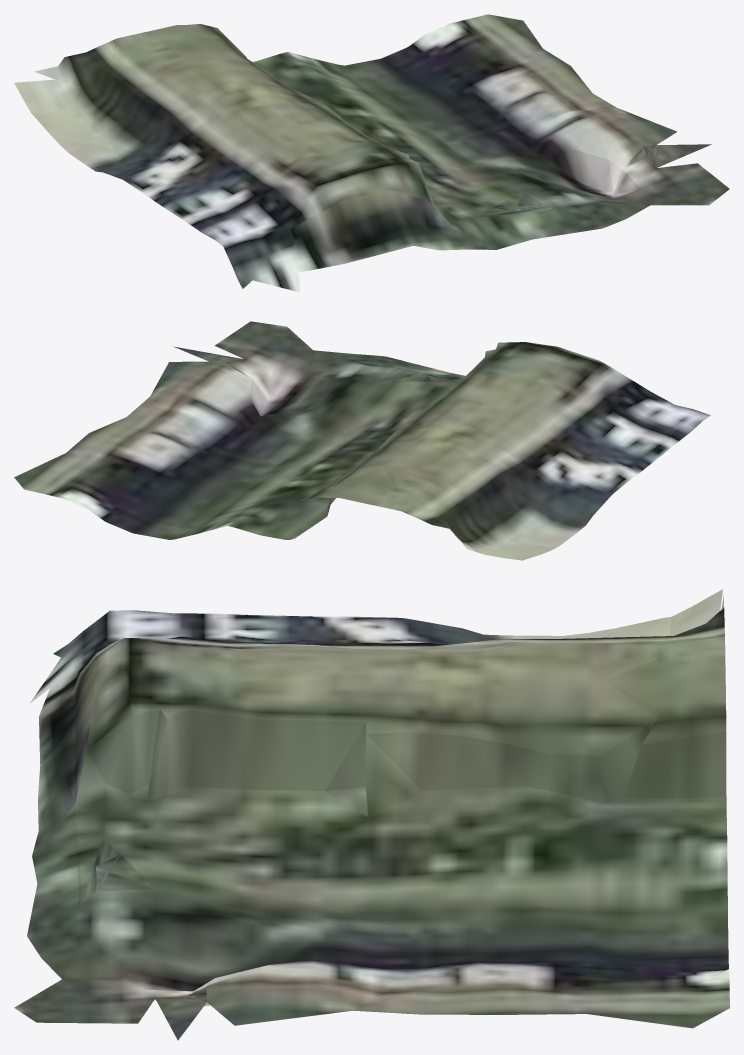
The model's file is Tile_003_003_L14_222.glb.
3 renders of one model, top to bottom at view 1: azimuth 30°, elevation 25°; view 2: azimuth 150°, elevation 25°; view 3: azimuth 270°, elevation 25°, orthographic. The views are drawn at different scales.
Parts seen in each view (by area): view 1: rtc; view 2: rtc; view 3: rtc.
Boxes of the visible parts, x1=… form: rtc: x1=14, y1=14, x2=729, y2=292; rtc: x1=14, y1=321, x2=710, y2=560; rtc: x1=14, y1=589, x2=729, y2=1040.
Size of the model in its own units: 24.42 by 4.64 by 19.8.
Materials: 1 (1 with a texture image).
